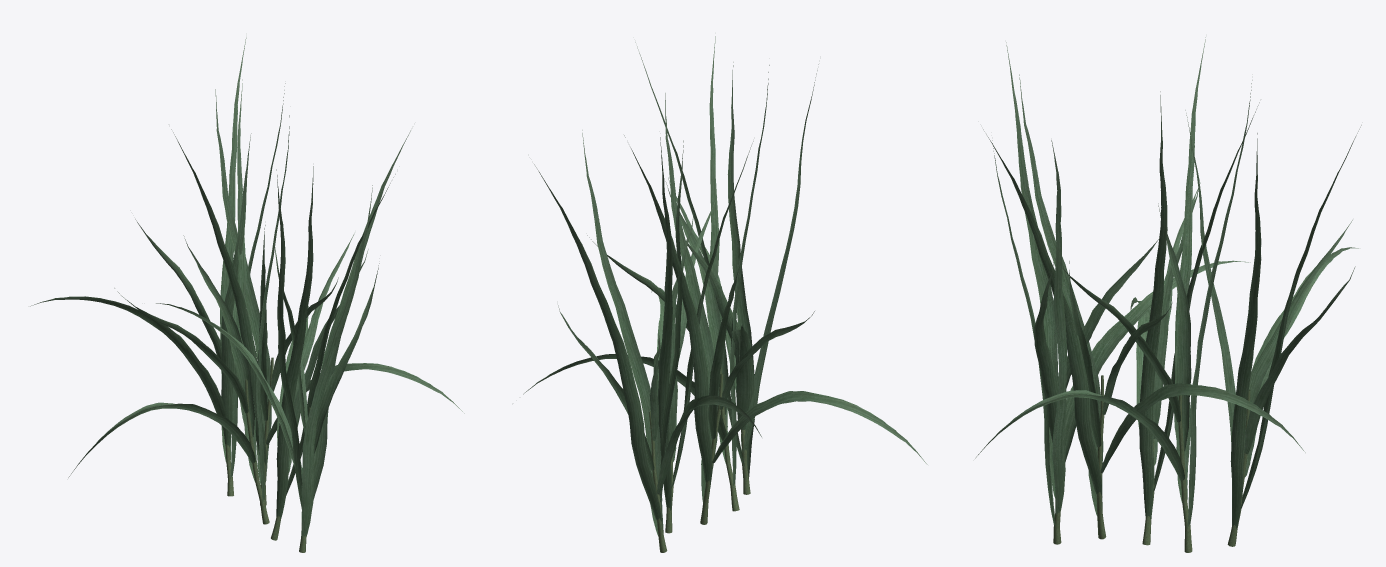
The picture shows the model from 3 angles, left to right: view 1: azimuth 30°, elevation 25°; view 2: azimuth 150°, elevation 25°; view 3: azimuth 270°, elevation 25°; orthographic projection. The views are drawn at different scales.
Parts seen in each view (by area): view 1: AG01_1; view 2: AG01_1; view 3: AG01_1.
Boxes of the visible parts, x1,y1,x2,y2 form: AG01_1: (30, 37, 464, 552); AG01_1: (523, 36, 927, 552); AG01_1: (975, 37, 1361, 552).
Bounding box in the file's own units: 0.201 × 0.2404 × 0.1789.
